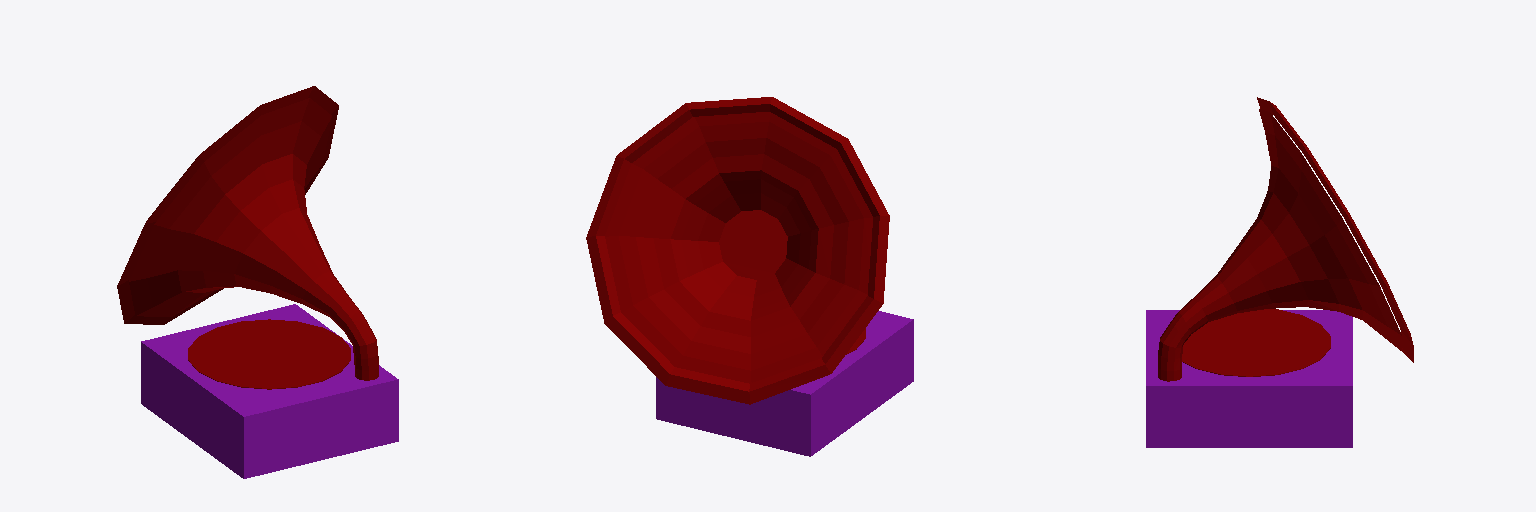
File: Phonographe_Entier.obj
3 views of the same model, side by side, from view 1: azimuth 30°, elevation 25°; view 2: azimuth 150°, elevation 25°; view 3: azimuth 270°, elevation 25° (orthographic).
Visible parts, largest first — view 1: Cylinder002, Boitier, Disque, Object; view 2: Cylinder002, Object, Boitier; view 3: Cylinder002, Boitier, Disque, Object.
Part boxes in pixels (left/top/right/bottom): Cylinder002: left=129, top=98, right=378, bottom=380; Boitier: left=141, top=304, right=398, bottom=478; Disque: left=188, top=319, right=350, bottom=389; Object: left=117, top=86, right=338, bottom=324; Cylinder002: left=605, top=112, right=872, bottom=383; Object: left=586, top=97, right=889, bottom=404; Boitier: left=656, top=311, right=913, bottom=456; Cylinder002: left=1158, top=109, right=1401, bottom=381; Boitier: left=1146, top=310, right=1352, bottom=447; Disque: left=1182, top=309, right=1330, bottom=376; Object: left=1257, top=97, right=1413, bottom=362.
Size of the model in its own units: 21.4 by 24.93 by 19.44.